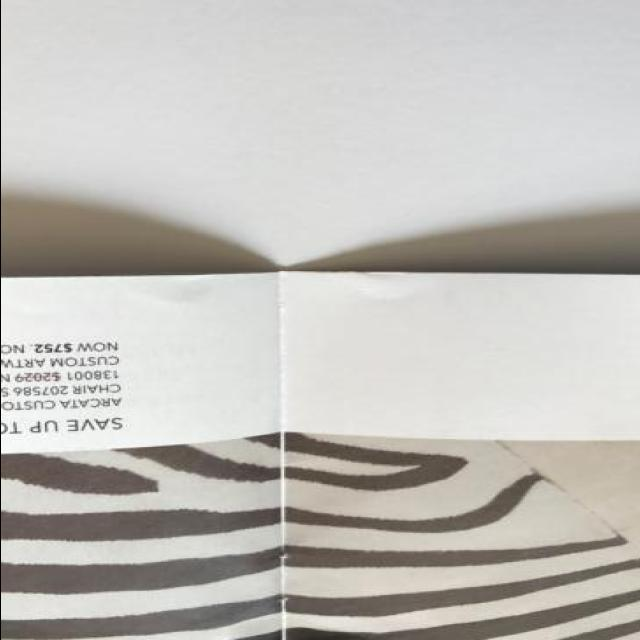kertas: (0, 272, 640, 640)
